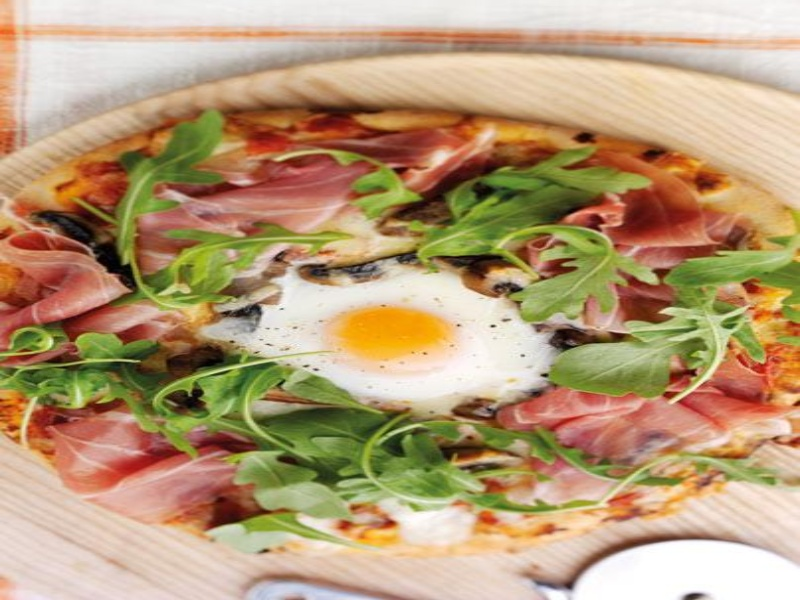oeuf: (302, 295, 483, 394)
